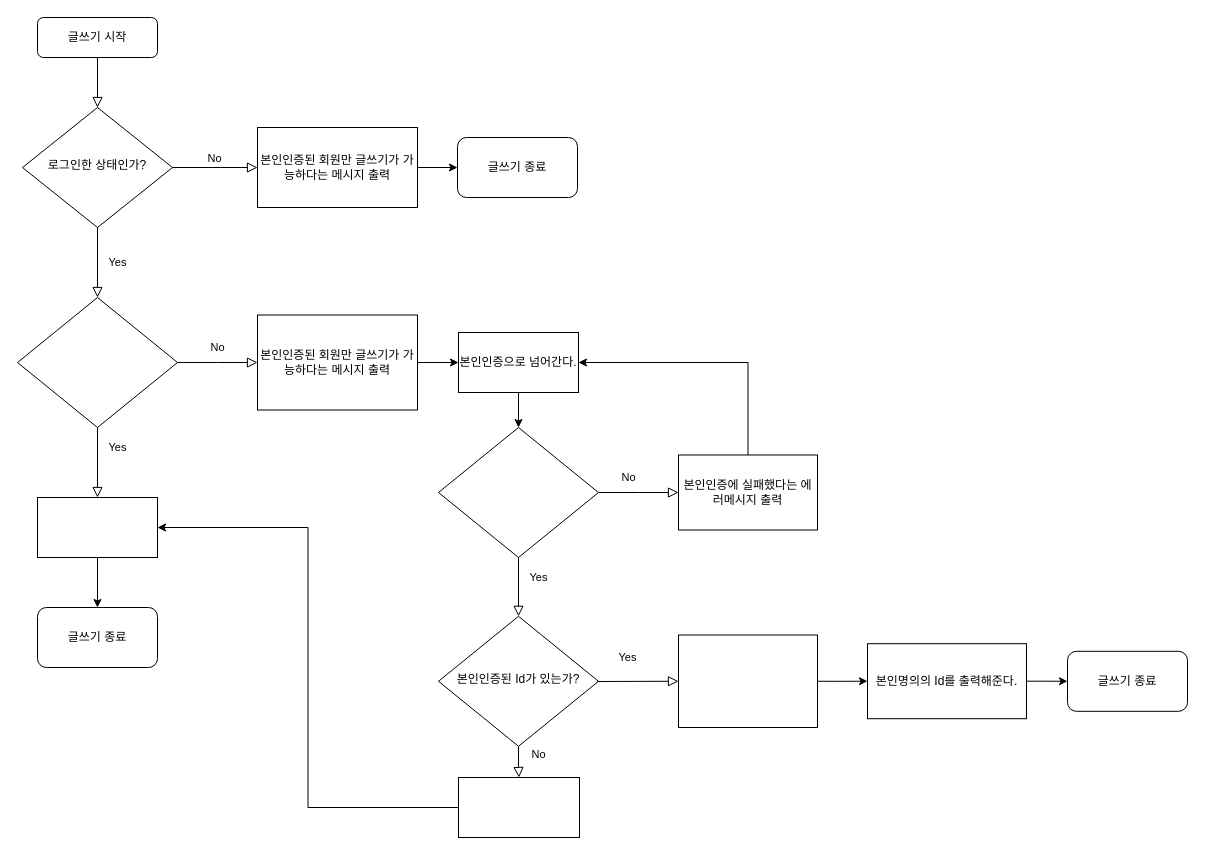
The diagram is 1205 pixels wide and 855 high, and some of its shapes have lost their labels. The centre of each missing label's shape, as x and y in pixels:
"글쓰기" goes at pixel 97 527.
"본인인증에 성공했는가?" goes at pixel 518 492.
"본인인증에 성공했다는 메시지 출력" goes at pixel 519 807.
"본인인증이된 상태인가?" goes at pixel 97 362.
"한사람당 한Id만 가질 수 있다는 메시지 출력" goes at pixel 748 681.
